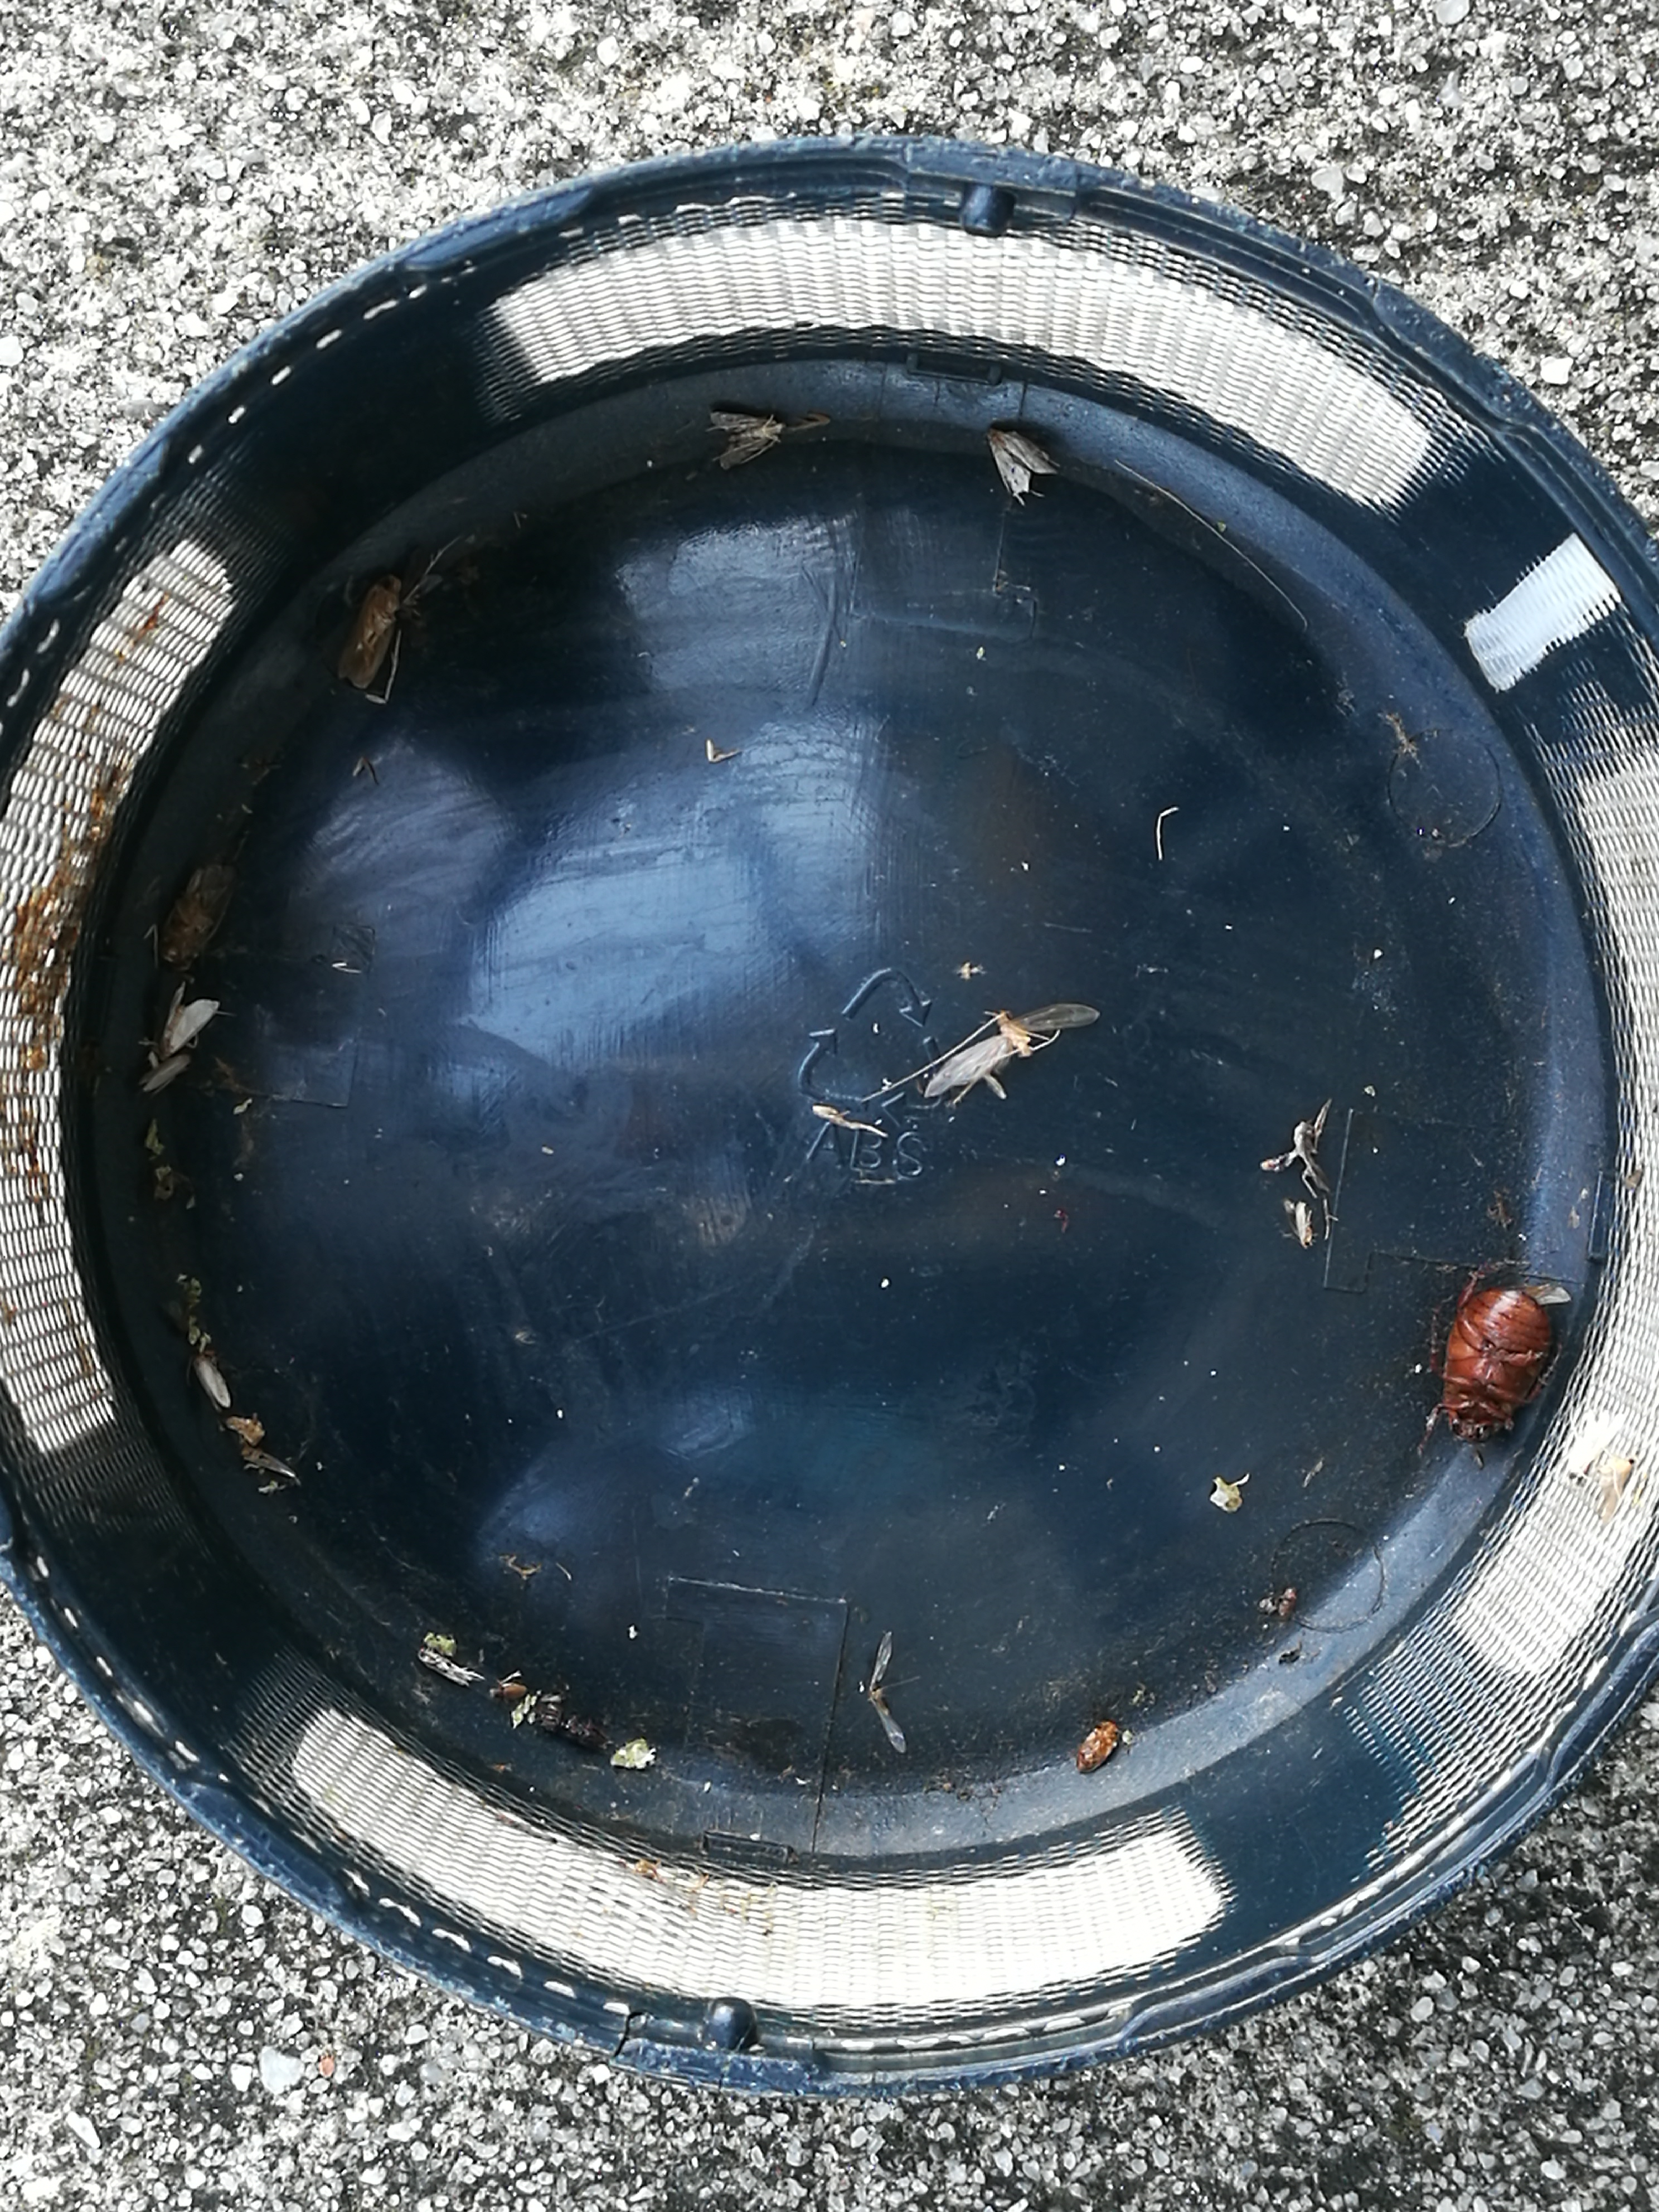beetle: (1443, 1291, 1558, 1439), (1075, 1721, 1119, 1773)
mosquito: (418, 1649, 483, 1688), (193, 1355, 230, 1411), (138, 1055, 188, 1092), (404, 547, 429, 599)
moth: (924, 1005, 1098, 1099), (159, 866, 237, 967), (336, 575, 401, 688), (986, 427, 1056, 495), (159, 984, 220, 1057), (711, 409, 784, 469)
